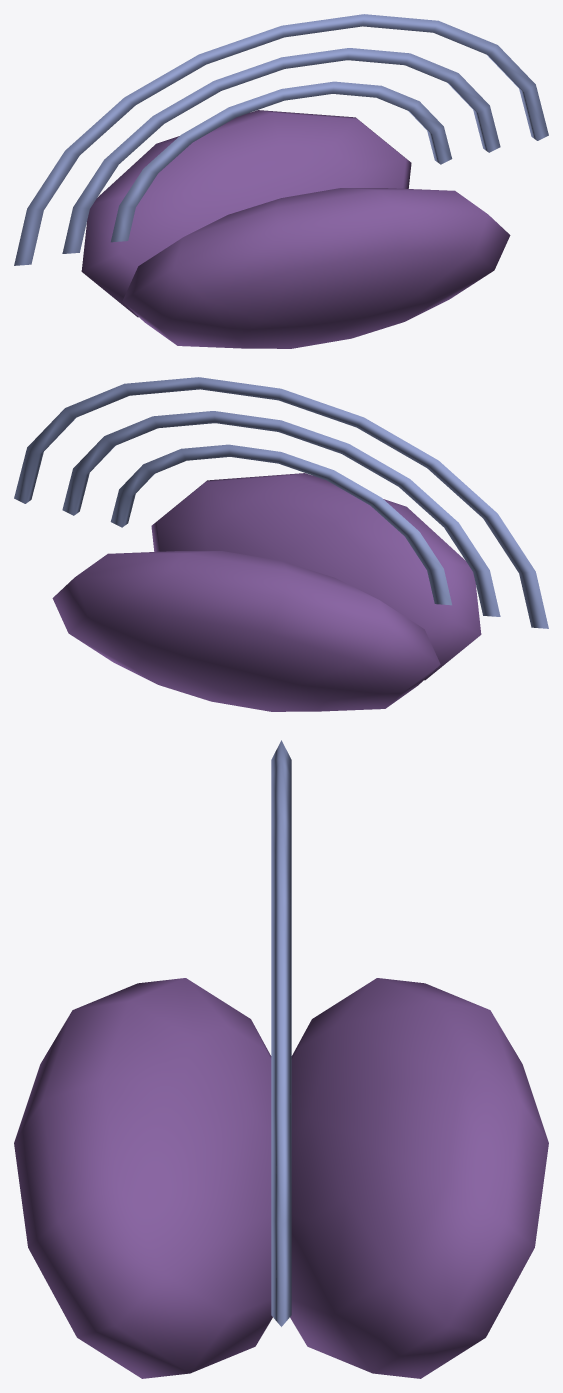
File: col_shell_river_mussel.gltf
3 views of the same model, one above another, from view 1: azimuth 30°, elevation 25°; view 2: azimuth 150°, elevation 25°; view 3: azimuth 270°, elevation 25° (orthographic). The views are drawn at different scales.
Visible parts, largest first — view 1: col_shell_river_mussel; view 2: col_shell_river_mussel; view 3: col_shell_river_mussel.
Part boxes in pixels (box(x1,y1,x2,y2)): col_shell_river_mussel: box(14, 14, 548, 348); col_shell_river_mussel: box(14, 377, 548, 711); col_shell_river_mussel: box(14, 740, 548, 1378).
Size of what is drawn, in the model's own units: 0.2656 by 0.141 by 0.1366.
